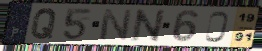0: (204, 10, 231, 43)
5: (62, 7, 94, 41)
6: (171, 9, 201, 44)
N: (130, 8, 168, 43), (98, 8, 134, 42)
Q: (29, 7, 59, 40)
